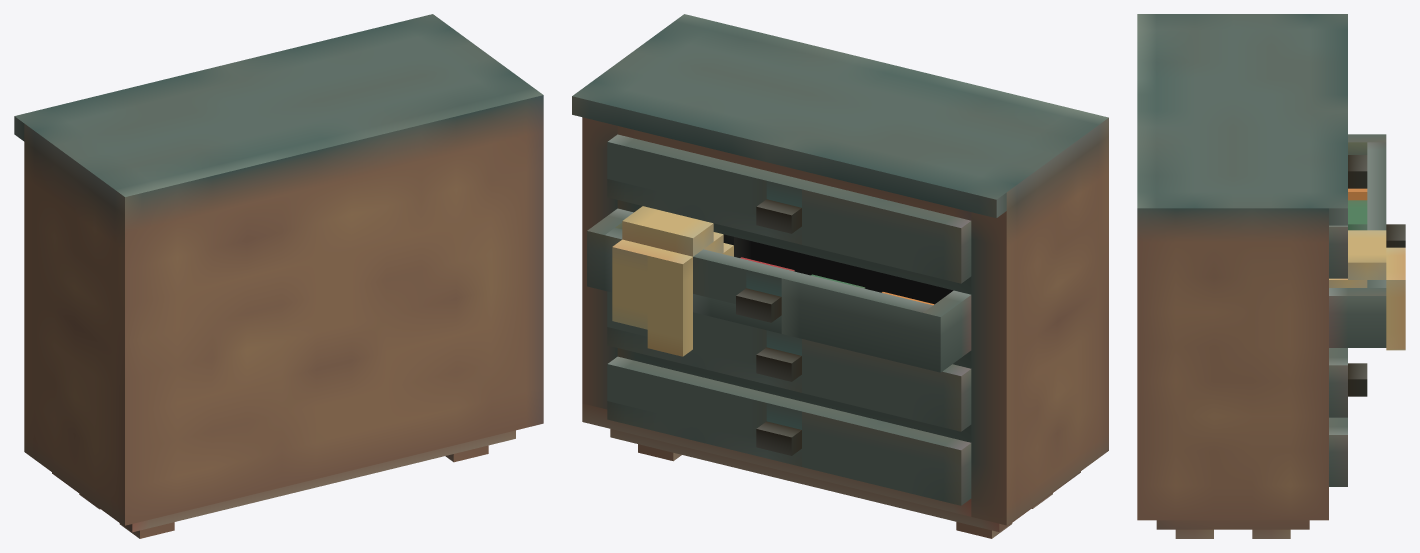
Rendered from DresserDarkGreenOpened_00.obj.
The picture shows the model from 3 angles, left to right: view 1: azimuth 30°, elevation 25°; view 2: azimuth 150°, elevation 25°; view 3: azimuth 270°, elevation 25°; orthographic projection. The views are drawn at different scales.
Visible parts, largest first — view 1: DresserDarkGreenOpened_00; view 2: DresserDarkGreenOpened_00; view 3: DresserDarkGreenOpened_00.
Boxes of the visible parts, x1=… form: DresserDarkGreenOpened_00: x1=14, y1=14, x2=543, y2=538; DresserDarkGreenOpened_00: x1=572, y1=14, x2=1108, y2=538; DresserDarkGreenOpened_00: x1=1137, y1=14, x2=1405, y2=538.
Bounding box in the file's own units: 1.2 × 1 × 0.7.
